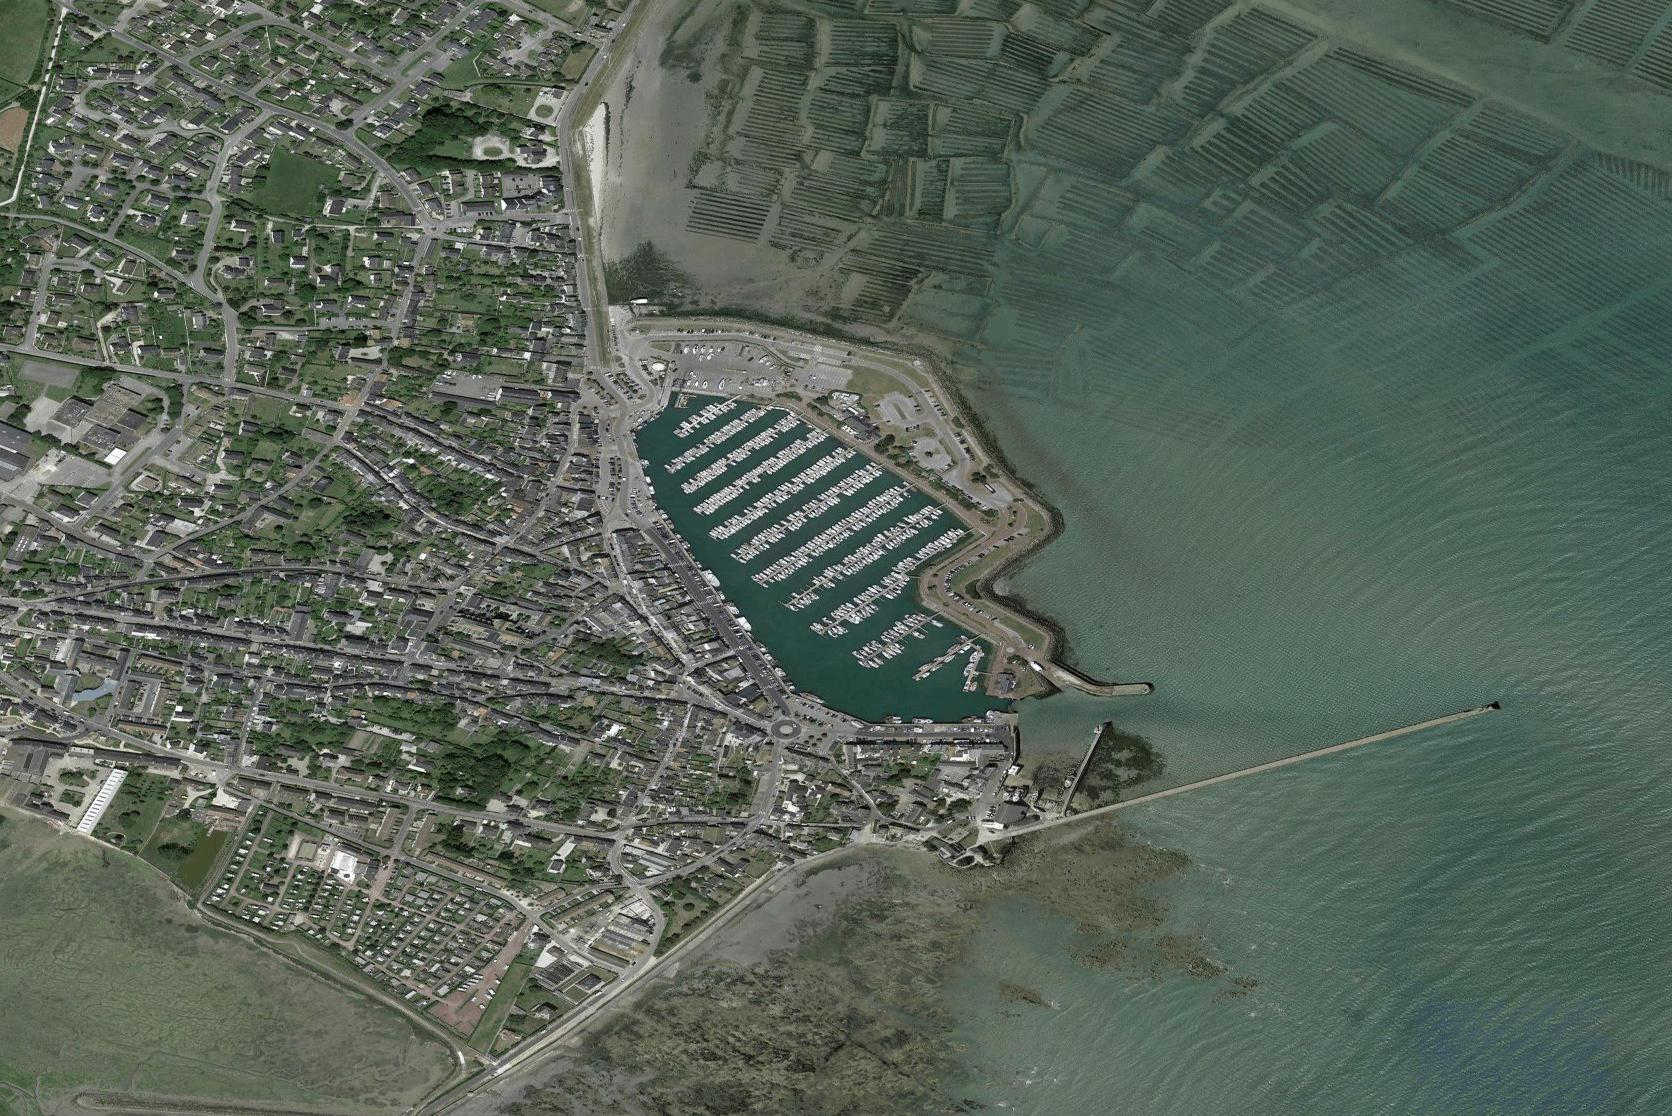harbor: (609, 316, 1094, 788)
